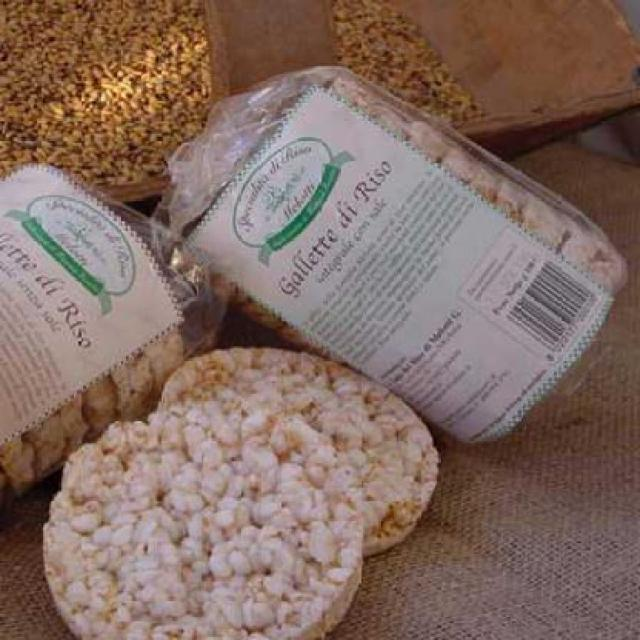Gallette di riso: (162, 70, 636, 452), (2, 153, 226, 492)
Gallette di riso packaged: (52, 343, 440, 640)
